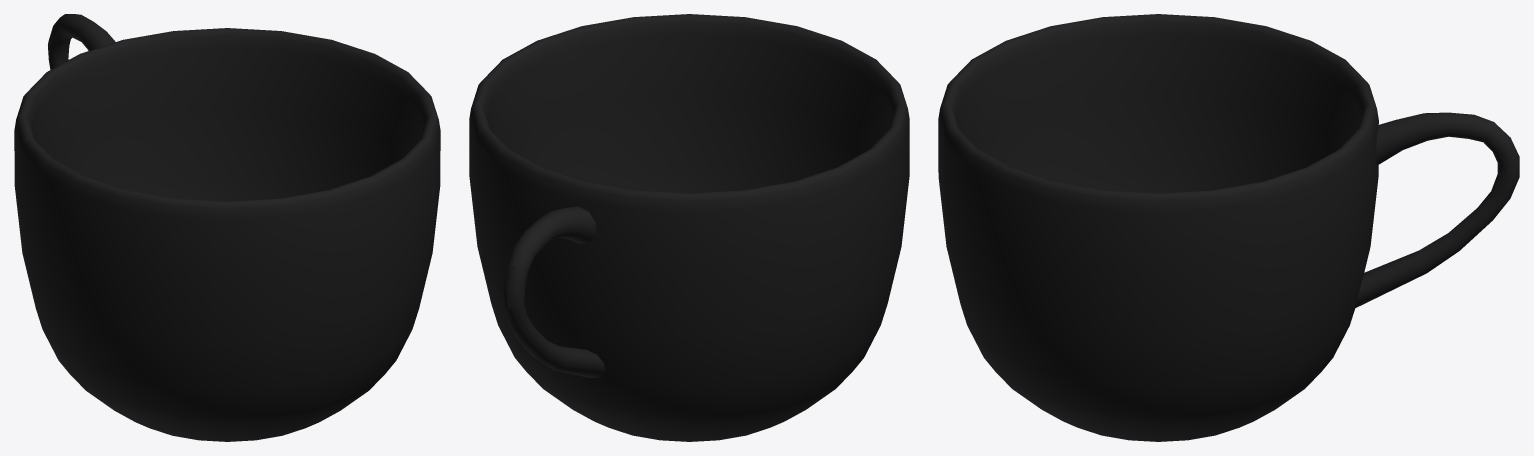
File: cup black.FBX
3 views of the same model, side by side, from view 1: azimuth 30°, elevation 25°; view 2: azimuth 150°, elevation 25°; view 3: azimuth 270°, elevation 25° (orthographic). The views are drawn at different scales.
Visible parts, largest first — view 1: cup black; view 2: cup black; view 3: cup black.
Boxes of the visible parts, x1,y1,x2,y2 form: cup black: [14, 14, 440, 441]; cup black: [469, 14, 909, 441]; cup black: [938, 14, 1519, 441].
Bounding box in the file's own units: 3.58 × 4.72 × 2.6.
1 material, 1 textured.
